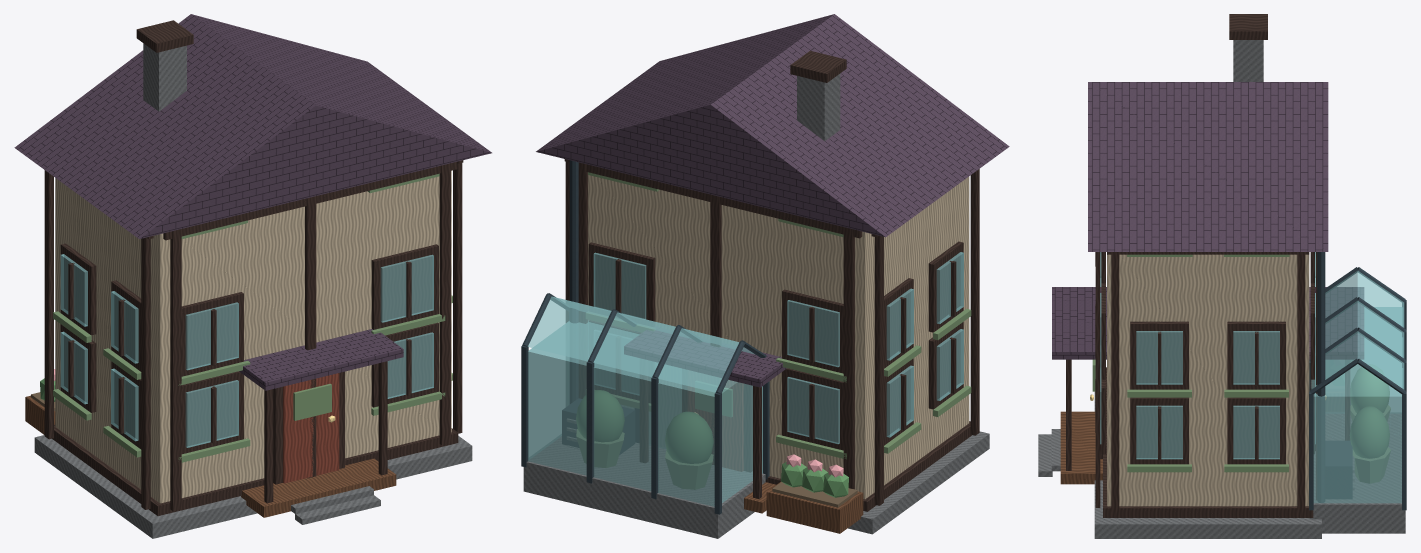
File: house_tudor_lv5_greenhouse.glb
3 renders of one model, left to right at view 1: azimuth 30°, elevation 25°; view 2: azimuth 150°, elevation 25°; view 3: azimuth 270°, elevation 25°, orthographic. The views are drawn at different scales.
Parts seen in each view (by area): view 1: gable_roof, walls, foundation, front_porch_canopy, front_window_frame.003, front_door, front_window_frame.002, front_window_frame, front_deck, floor_trim, front_timber, front_timber.002 (+31 smaller); view 2: gable_roof, walls, greenhouse_glazing, greenhouse_plinth, greenhouse_roof, back_porch_canopy, back_window_frame.003, back_window_frame.002, back_window_frame, foundation, back_timber, back_window_glass.002 (+40 smaller); view 3: gable_roof, walls, greenhouse_glazing, greenhouse_roof, greenhouse_plinth, foundation, right_window_frame.002, right_window_frame.003, right_window_frame, right_window_frame.001, front_porch_canopy, floor_trim (+27 smaller).
Boxes of the visible parts, left/top/right/bottom form: gable_roof: left=14, top=14, right=491, bottom=238; walls: left=55, top=170, right=451, bottom=503; foundation: left=34, top=435, right=472, bottom=538; front_porch_canopy: left=239, top=329, right=403, bottom=390; front_window_frame.003: left=371, top=244, right=438, bottom=329; front_door: left=283, top=373, right=339, bottom=483; front_window_frame.002: left=181, top=292, right=243, bottom=376; front_window_frame: left=181, top=371, right=243, bottom=454; front_deck: left=241, top=458, right=396, bottom=517; floor_trim: left=52, top=424, right=458, bottom=515; front_timber: left=170, top=229, right=181, bottom=510; front_timber.002: left=439, top=163, right=450, bottom=445; gable_roof: left=536, top=14, right=1009, bottom=237; walls: left=588, top=175, right=969, bottom=499; greenhouse_glazing: left=528, top=321, right=762, bottom=506; greenhouse_plinth: left=523, top=436, right=765, bottom=538; greenhouse_roof: left=528, top=296, right=754, bottom=392; back_porch_canopy: left=624, top=330, right=786, bottom=387; back_window_frame.003: left=588, top=242, right=655, bottom=321; back_window_frame.002: left=782, top=289, right=843, bottom=373; back_window_frame: left=782, top=368, right=843, bottom=450; foundation: left=848, top=431, right=989, bottom=534; back_timber: left=843, top=227, right=854, bottom=489; back_window_glass.002: left=787, top=300, right=839, bottom=367; gable_roof: left=1088, top=82, right=1328, bottom=251; walls: left=1107, top=254, right=1309, bottom=506; greenhouse_glazing: left=1313, top=307, right=1402, bottom=503; greenhouse_roof: left=1311, top=271, right=1404, bottom=389; greenhouse_plinth: left=1309, top=413, right=1405, bottom=533; foundation: left=1094, top=392, right=1321, bottom=538; right_window_frame.002: left=1130, top=321, right=1188, bottom=389; right_window_frame.003: left=1227, top=321, right=1285, bottom=389; right_window_frame: left=1130, top=397, right=1188, bottom=464; right_window_frame.001: left=1227, top=397, right=1285, bottom=464; front_porch_canopy: left=1052, top=287, right=1106, bottom=359; floor_trim: left=1103, top=367, right=1313, bottom=517.
Bounding box in the file's own units: 6.6 × 7.6 × 6.19.
Materials: 13 (7 with a texture image).
